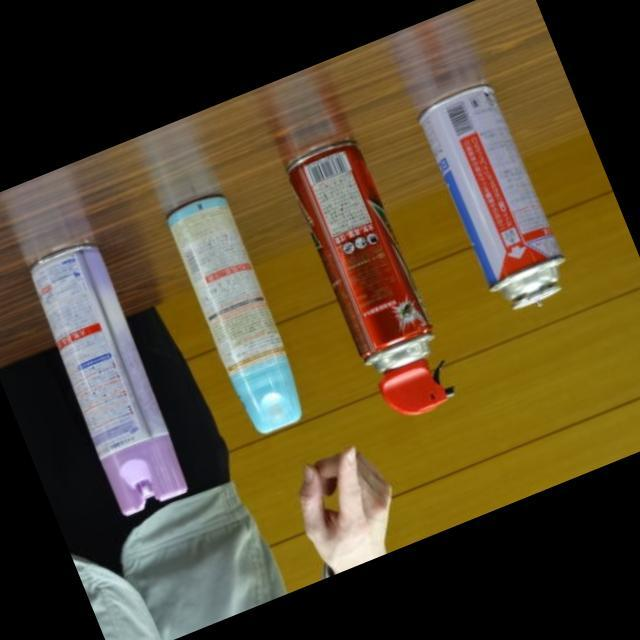chemical_spray_can: (257, 110, 478, 438), (0, 212, 212, 543), (120, 156, 332, 464), (417, 84, 563, 308)
